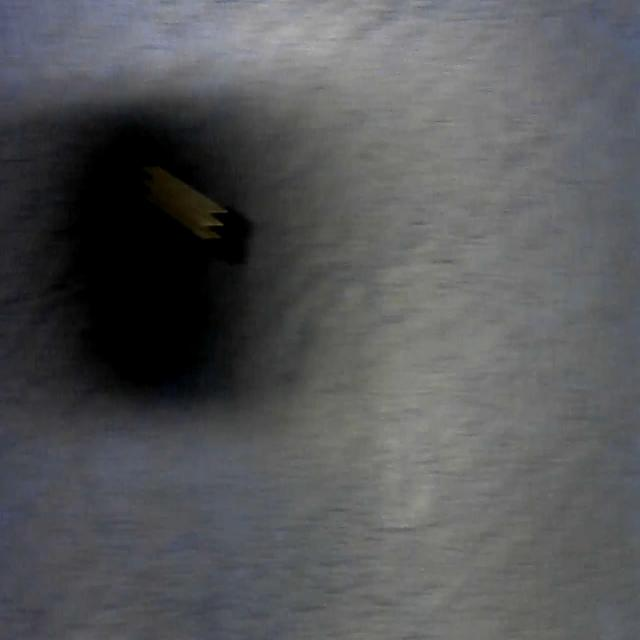BJT: (136, 156, 253, 264)
